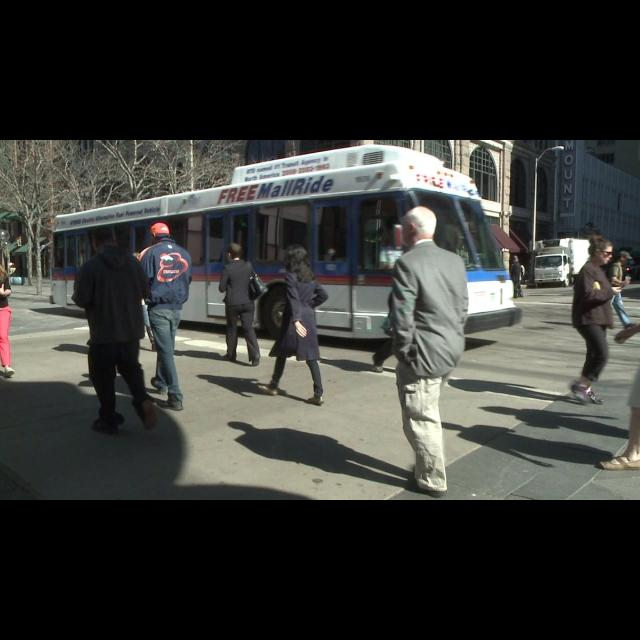head: (402, 207, 438, 243), (90, 223, 120, 254), (589, 238, 615, 266), (289, 248, 309, 270), (150, 222, 170, 244), (226, 244, 242, 262), (132, 252, 144, 270), (618, 251, 630, 265), (0, 258, 6, 270), (512, 255, 518, 262), (517, 260, 521, 266)
person: (369, 204, 473, 498), (70, 218, 160, 436), (255, 246, 332, 406), (134, 217, 196, 411), (566, 232, 628, 404), (218, 243, 264, 369), (114, 246, 160, 360), (600, 243, 638, 333), (0, 250, 22, 380), (508, 253, 522, 297), (512, 258, 526, 296)
